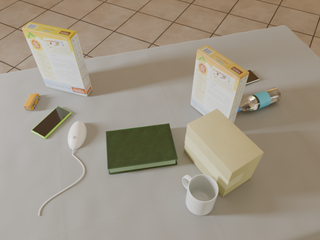book: (106, 124, 178, 174)
bottle: (238, 87, 281, 112)
box: (184, 108, 263, 197), (22, 22, 92, 96), (191, 45, 249, 124)
cup: (182, 174, 218, 215)
mouse: (68, 121, 87, 149)
phone: (31, 106, 71, 139), (246, 70, 259, 84)
toy_car: (24, 93, 40, 110)
